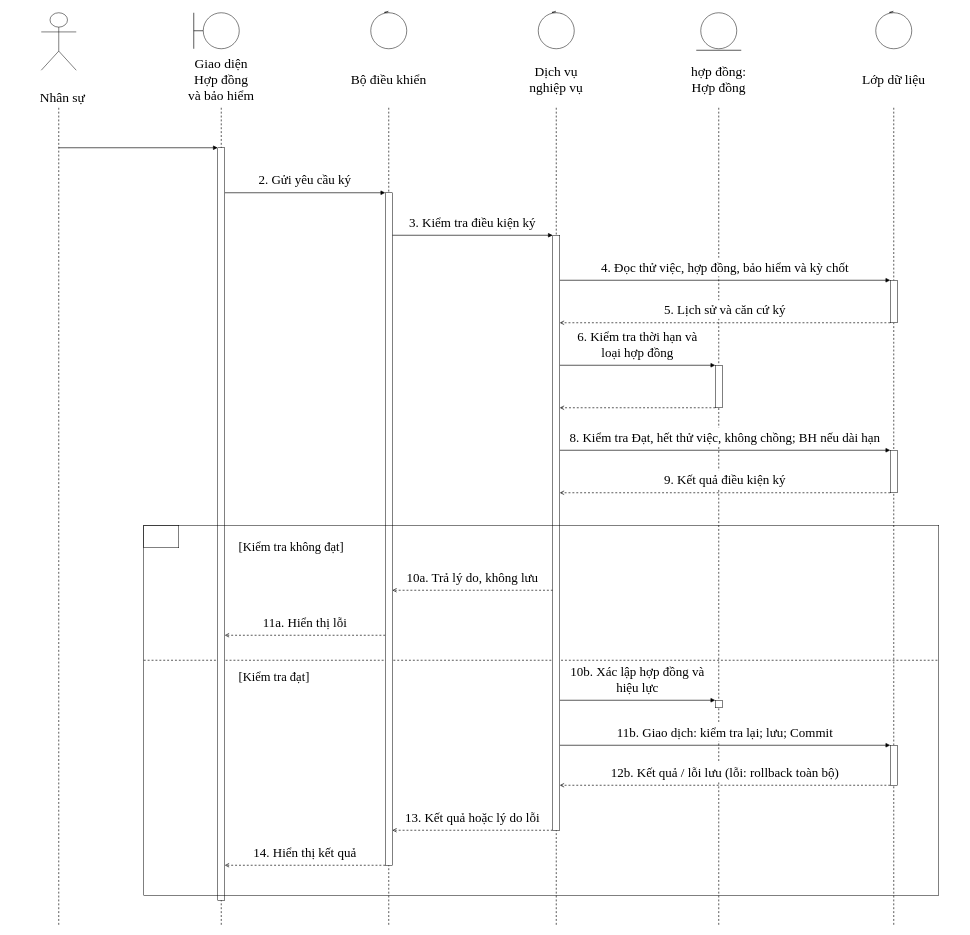
This 970x935 diagram has some shape labels left out. The box of each missing label's shape, as (x1, y1, x2, y2) in pixels:
1. Nhập loại, thời hạn và bảo hiểm nếu dài hạn: (64, 110, 212, 144)
7. Hợp đồng hợp lệ: (564, 385, 710, 404)
alt: (143, 525, 179, 548)
